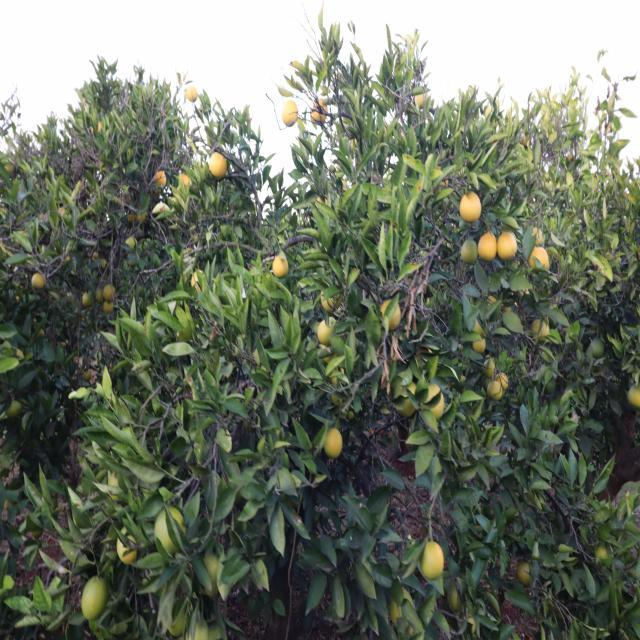Jeruk Belum Matang: (154, 504, 190, 560), (198, 551, 231, 600), (82, 574, 112, 622), (388, 584, 416, 630), (416, 383, 446, 422), (392, 376, 418, 420), (177, 608, 210, 640), (420, 539, 444, 581), (116, 526, 141, 566), (322, 425, 344, 460), (319, 282, 343, 313), (316, 316, 339, 348), (379, 298, 402, 330), (459, 191, 482, 223), (449, 581, 470, 612), (190, 268, 210, 300), (528, 247, 550, 276), (477, 231, 498, 261), (200, 618, 228, 640), (430, 168, 450, 198), (497, 230, 518, 258), (208, 150, 228, 178), (281, 99, 299, 127), (532, 316, 550, 344), (595, 540, 613, 568), (460, 238, 478, 266), (518, 559, 534, 590), (589, 336, 608, 362), (272, 252, 290, 279), (469, 308, 487, 335), (331, 382, 348, 410), (311, 99, 328, 126), (320, 341, 338, 366), (470, 332, 488, 356), (21, 411, 39, 434), (486, 380, 504, 402), (30, 270, 46, 294), (332, 362, 348, 386), (5, 400, 22, 422), (457, 374, 471, 400), (628, 380, 640, 410), (464, 612, 480, 634), (341, 400, 356, 423), (529, 225, 544, 248), (314, 193, 330, 214), (336, 177, 350, 201), (494, 371, 510, 392), (503, 300, 519, 320), (179, 172, 193, 194), (1, 155, 14, 177), (102, 282, 116, 302), (414, 89, 428, 109), (483, 357, 496, 378), (487, 295, 500, 316), (12, 348, 26, 366), (16, 230, 29, 249), (90, 118, 102, 138), (82, 290, 95, 308), (186, 84, 198, 103), (154, 170, 166, 189), (41, 245, 54, 262), (128, 250, 140, 268), (518, 284, 530, 302), (102, 298, 115, 314), (125, 236, 137, 252), (136, 206, 147, 223), (125, 206, 136, 222), (520, 131, 530, 148), (55, 206, 68, 218), (98, 161, 108, 176), (98, 256, 110, 268), (96, 286, 104, 304), (36, 328, 45, 342), (36, 210, 44, 225), (82, 371, 91, 383), (92, 250, 100, 263)
